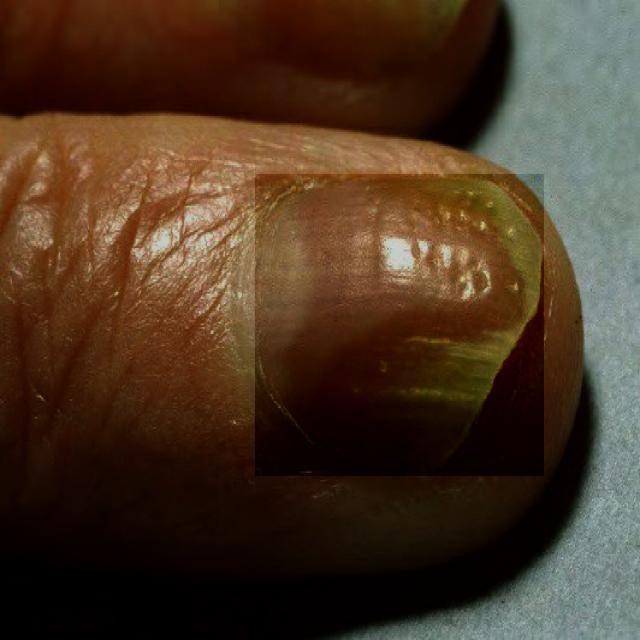diabetes: (255, 175, 544, 476)
